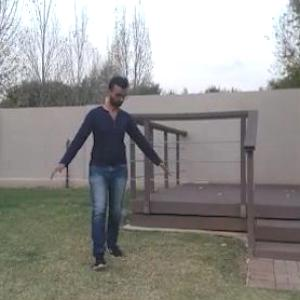land: (61, 72, 161, 278)
